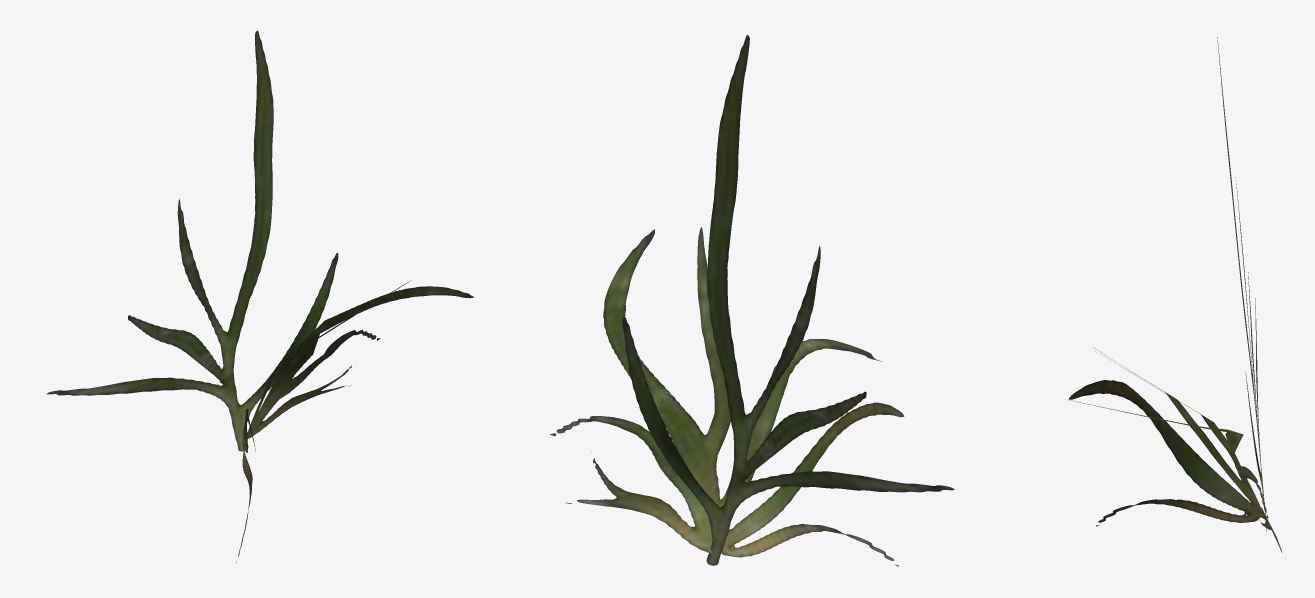
The model's file is grass_bermuda_01_medium_e.gltf.
3 renders of one model, left to right at view 1: azimuth 30°, elevation 25°; view 2: azimuth 150°, elevation 25°; view 3: azimuth 270°, elevation 25°, orthographic. The views are drawn at different scales.
Parts seen in each view (by area): view 1: grass_bermuda_01_medium_e; view 2: grass_bermuda_01_medium_e; view 3: grass_bermuda_01_medium_e.
Boxes of the visible parts, box(x1,y1,x2,y2) form: grass_bermuda_01_medium_e: box(46, 30, 473, 562); grass_bermuda_01_medium_e: box(550, 35, 954, 566); grass_bermuda_01_medium_e: box(1067, 37, 1285, 558).
Size of the model in its own units: 0.066 by 0.0827 by 0.0369.
1 material, 1 textured.
